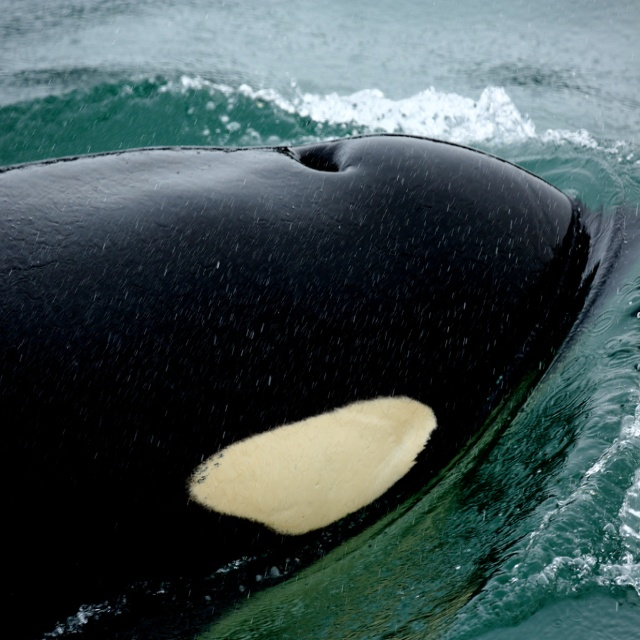Whale: (0, 132, 595, 640)
